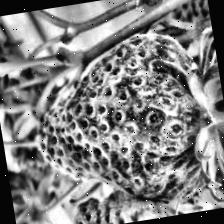Powdery Mildew Fruit: (22, 24, 224, 223)
